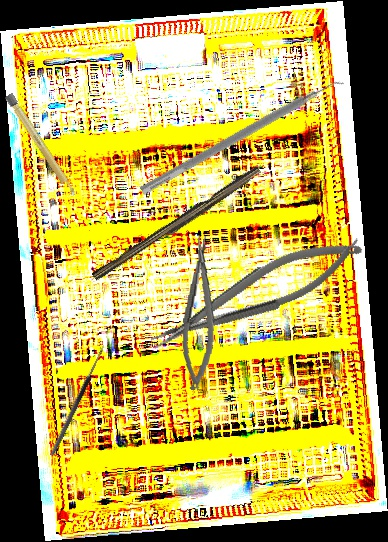Hook Surgical: (44, 341, 107, 457)
Needle Holder: (140, 225, 372, 360), (177, 234, 223, 392)
Scalpel Handle: (91, 163, 264, 286), (4, 92, 78, 199)
Spatula Surgical: (139, 72, 348, 204)
